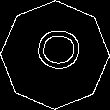O_W: (29, 33, 81, 77)
